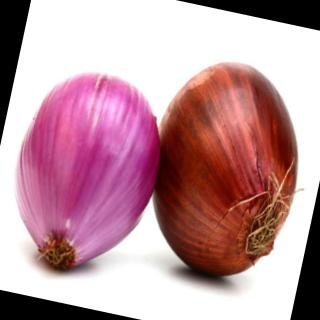Bawang Merah: (128, 44, 320, 294), (1, 57, 177, 290)
